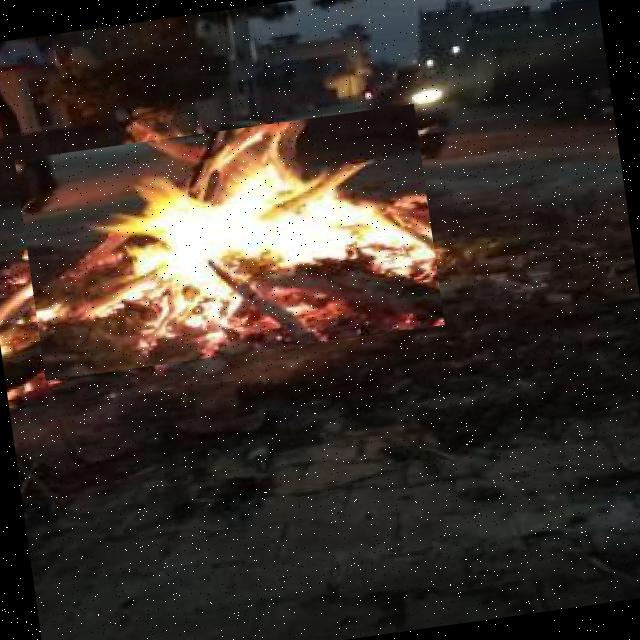fire: (15, 104, 445, 381)
